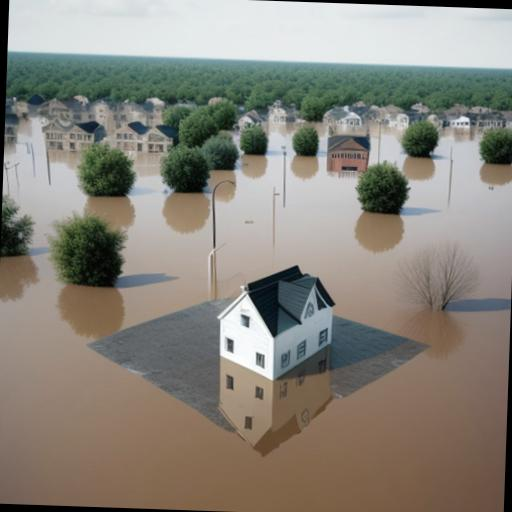flood: (0, 119, 512, 458), (0, 256, 510, 512)
house: (218, 262, 336, 382), (324, 128, 370, 178), (120, 121, 178, 156), (55, 121, 108, 152), (450, 110, 510, 132), (4, 110, 16, 148)
